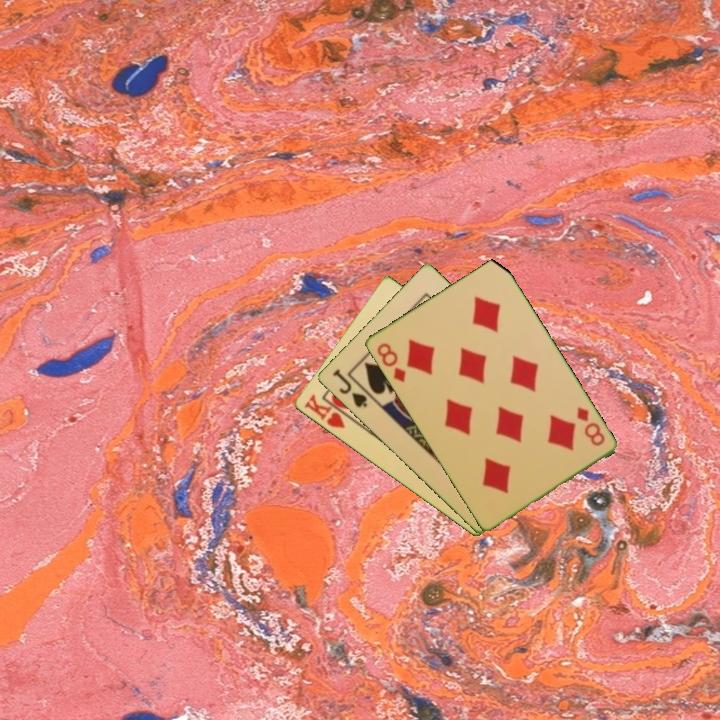8d: (373, 339, 408, 385), (573, 403, 607, 449)
Js: (329, 366, 370, 411)
Kh: (300, 391, 356, 432)
